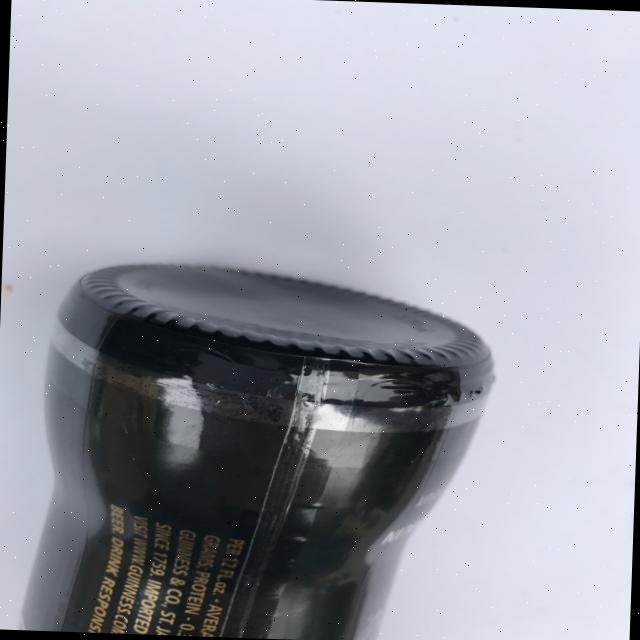glass: (26, 264, 490, 639)
